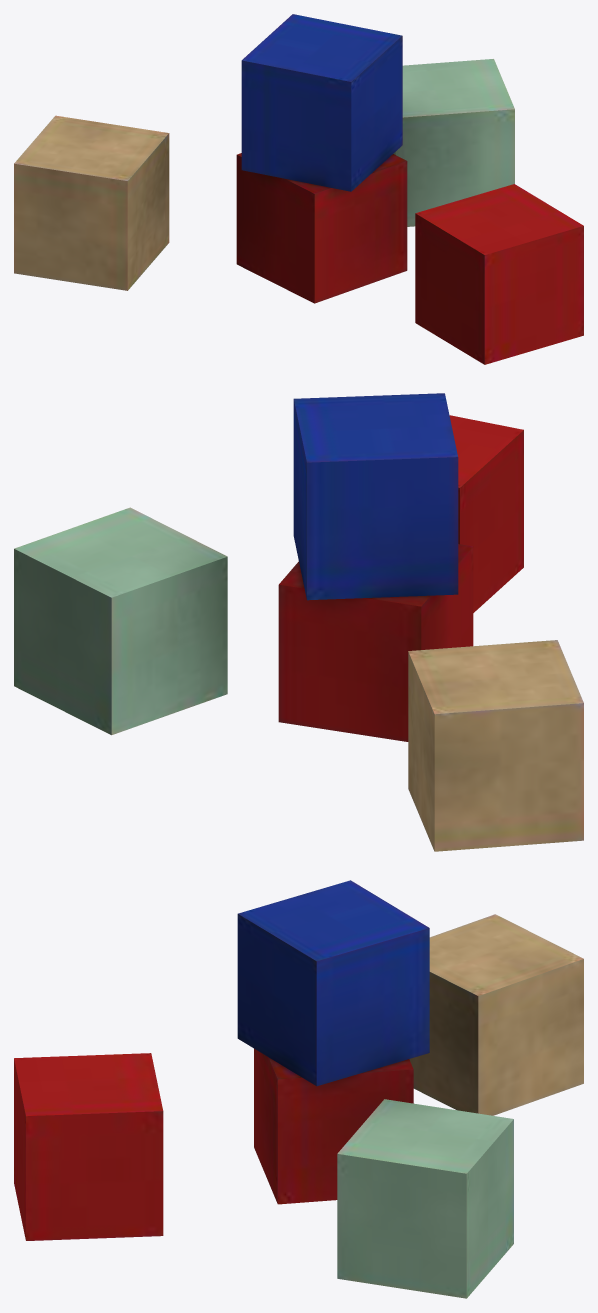
The model's file is toy_blocks_lod1_web.glb.
3 views of the same model, one above another, from view 1: azimuth 30°, elevation 25°; view 2: azimuth 150°, elevation 25°; view 3: azimuth 270°, elevation 25° (orthographic). The views are drawn at different scales.
Visible parts, largest first — view 1: ToyBlocks_Body; view 2: ToyBlocks_Body; view 3: ToyBlocks_Body.
Boxes of the visible parts, left/top/right/bottom form: ToyBlocks_Body: left=14, top=14, right=583, bottom=364; ToyBlocks_Body: left=14, top=393, right=583, bottom=851; ToyBlocks_Body: left=14, top=880, right=583, bottom=1298.
Bounding box in the file's own units: 0.2005 × 0.09 × 0.1861.
1 material, 1 textured.
